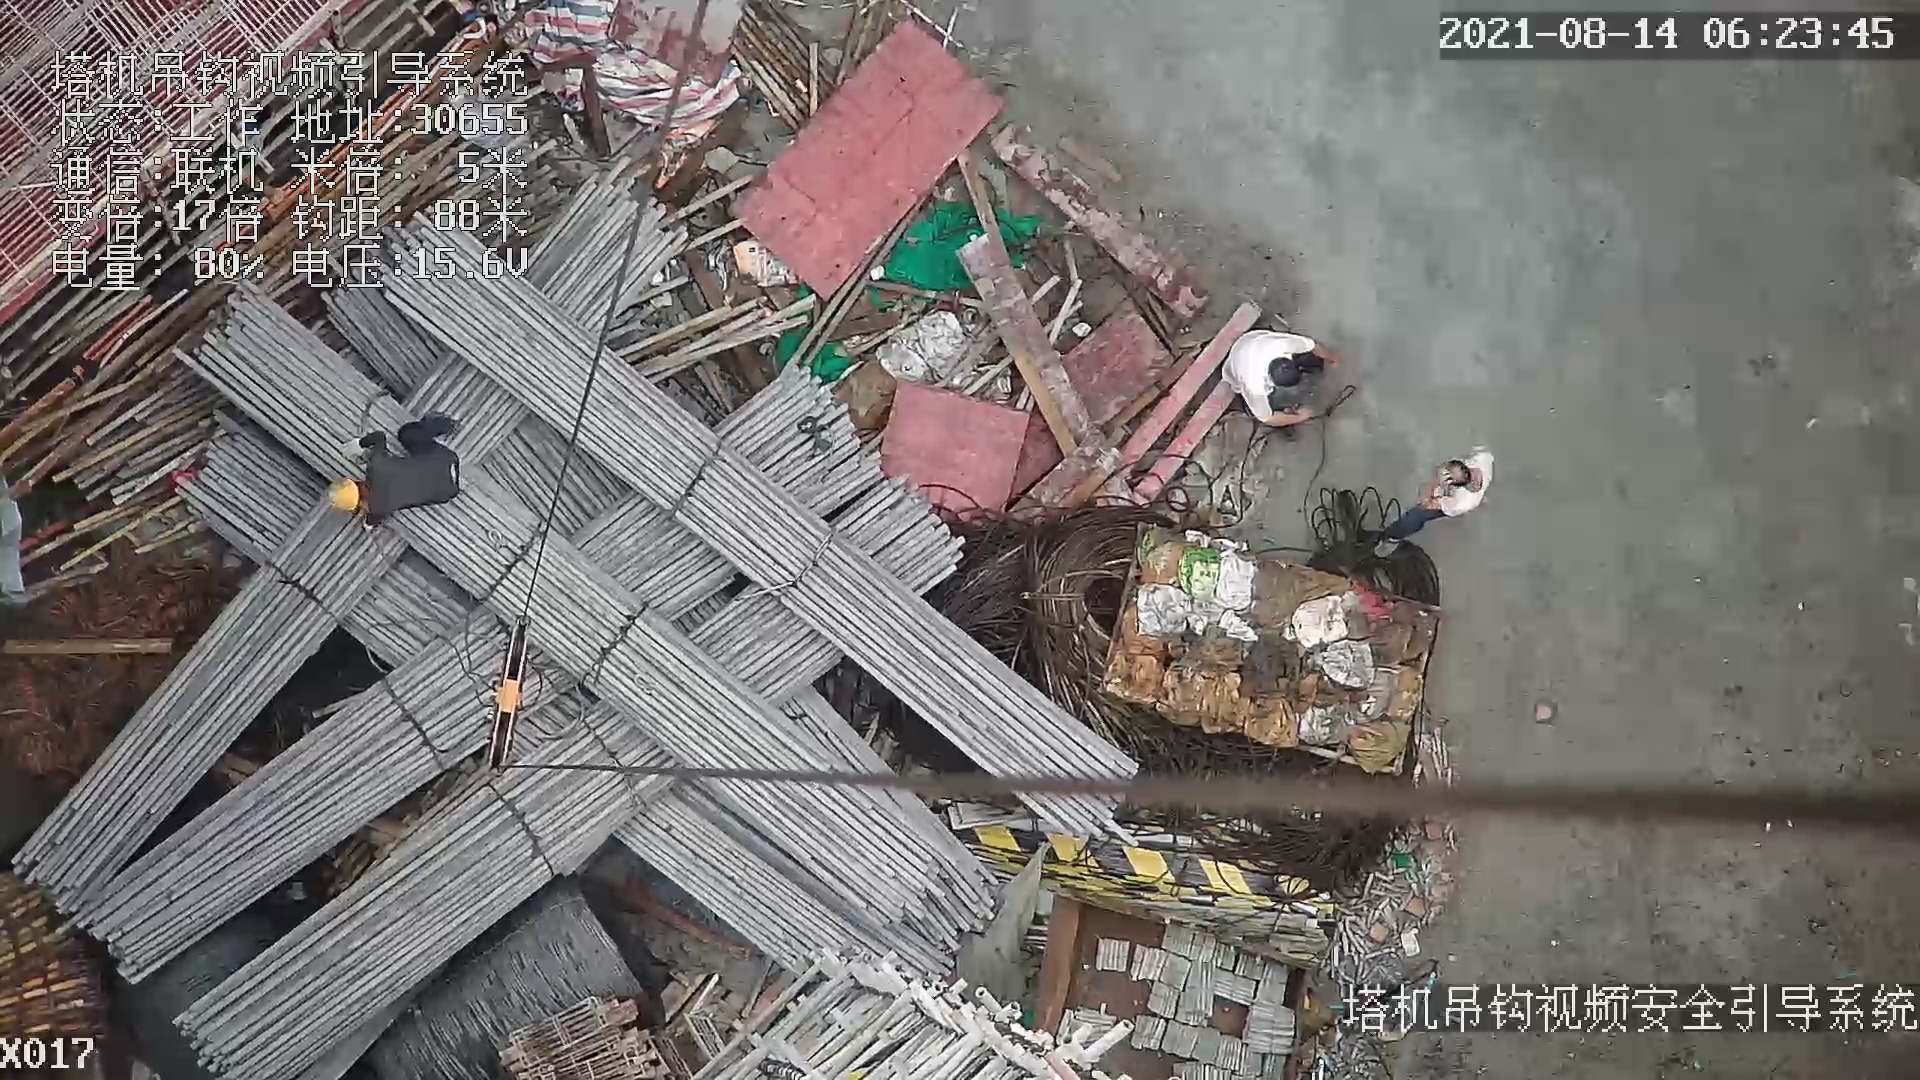helmet: (328, 476, 359, 512)
hook: (494, 605, 535, 785)
person: (327, 413, 464, 531), (1376, 436, 1499, 556), (1223, 327, 1347, 431)
rebar: (181, 287, 947, 931), (393, 285, 1140, 842), (174, 699, 693, 1080), (77, 607, 570, 983), (9, 518, 375, 912)
wood: (1, 869, 121, 1030)
